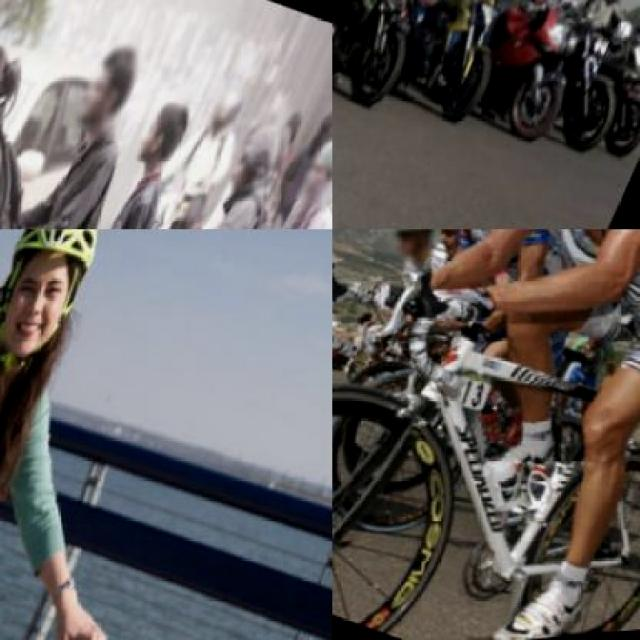With Helmet: (0, 229, 123, 385), (380, 230, 448, 278), (203, 85, 252, 150)
Without Helmet: (206, 105, 302, 228), (70, 24, 161, 153), (131, 104, 192, 185), (292, 137, 331, 228), (0, 40, 26, 143)
